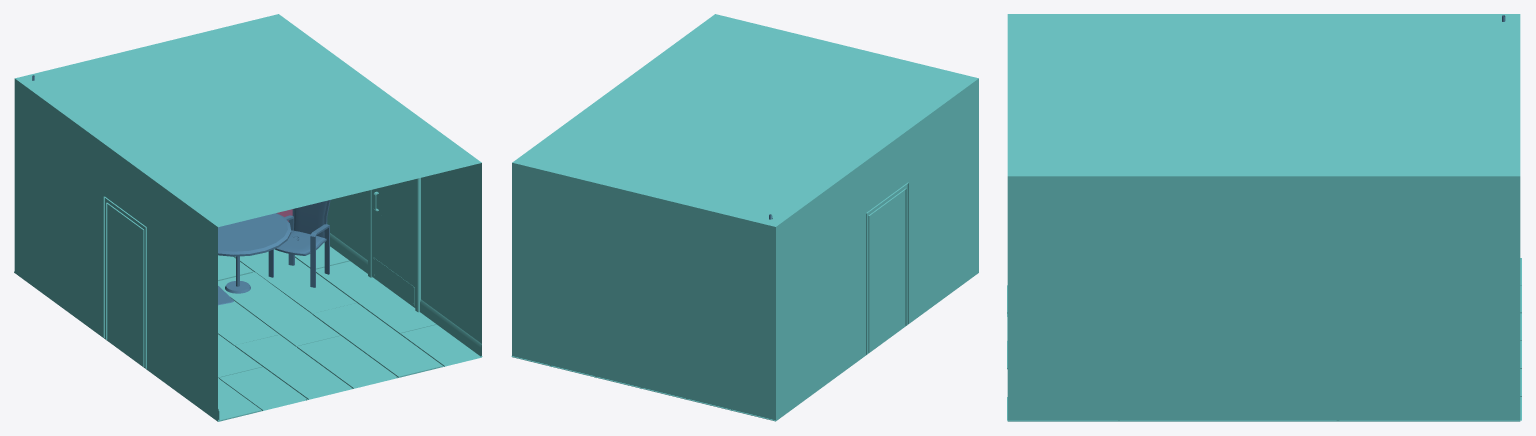
File: breakRoom_Unwrapped.fbx
3 renders of one model, left to right at view 1: azimuth 30°, elevation 25°; view 2: azimuth 150°, elevation 25°; view 3: azimuth 270°, elevation 25°, orthographic. The views are drawn at different scales.
Parts seen in each view (by area): view 1: BR_BG, BR_floorBoards_geo, door_breakRoomToBathroom, BR_crookedTable_geo, BR_chair, BR_trim, door_breakRoom_to_mainOffice; view 2: BR_BG, door_breakRoom_to_mainOffice; view 3: BR_BG, BR_floorBoards_geo.
Part boxes in pixels (x1=…): BR_BG: x1=14, y1=14, x2=481, y2=421; BR_floorBoards_geo: x1=14, y1=242, x2=482, y2=421; door_breakRoomToBathroom: x1=368, y1=178, x2=420, y2=312; BR_crookedTable_geo: x1=218, y1=213, x2=291, y2=293; BR_chair: x1=268, y1=200, x2=330, y2=287; BR_trim: x1=218, y1=233, x2=481, y2=419; door_breakRoom_to_mainOffice: x1=103, y1=196, x2=146, y2=368; BR_BG: x1=512, y1=14, x2=978, y2=421; door_breakRoom_to_mainOffice: x1=866, y1=182, x2=908, y2=354; BR_BG: x1=1007, y1=14, x2=1520, y2=421; BR_floorBoards_geo: x1=1007, y1=258, x2=1521, y2=420.
Size of the model in its own units: 28.18 by 20.2 by 37.52.
